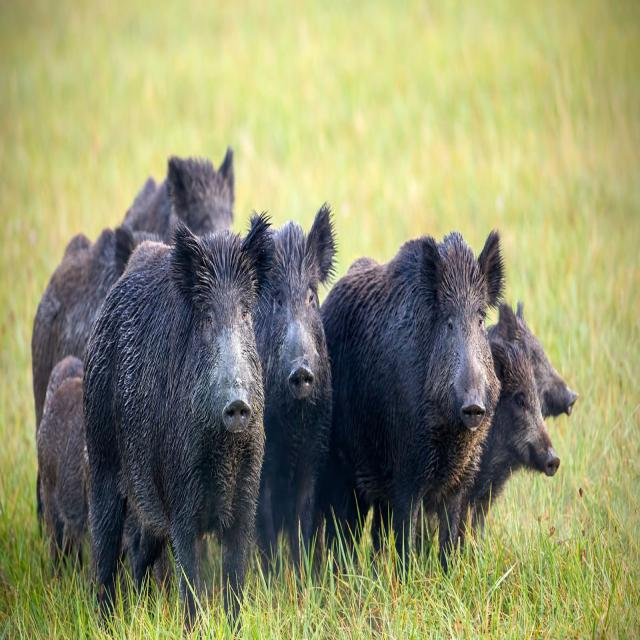Boar: (82, 222, 268, 599), (325, 228, 502, 549), (248, 206, 338, 581), (501, 300, 578, 490)
